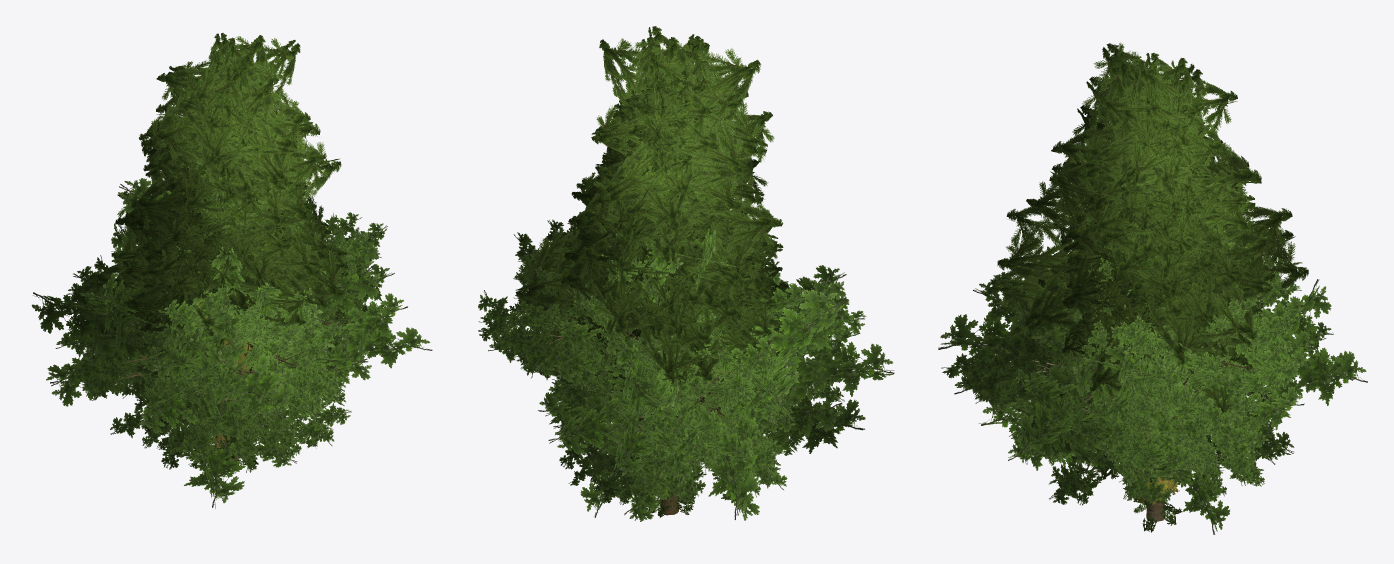
File: trees.glb
3 renders of one model, left to right at view 1: azimuth 30°, elevation 25°; view 2: azimuth 150°, elevation 25°; view 3: azimuth 270°, elevation 25°, orthographic. The views are drawn at different scales.
Parts seen in each view (by area): view 1: whitepine_a_lod2_leaves, oak_lod2_leaves, oak_lod1_leaves, oak_lod0_leaves, whitepine_b_lod2_leaves, whitepine_a_lod1_leaves, maple_lod1_leaves, maple_lod2_leaves, whitepine_a_lod0_leaves, maple_lod0_leaves, whitepine_b_lod1_leaves, whitepine_b_lod0_leaves; view 2: whitepine_a_lod2_leaves, oak_lod2_leaves, oak_lod1_leaves, whitepine_b_lod2_leaves, whitepine_a_lod1_leaves, oak_lod0_leaves, maple_lod1_leaves, maple_lod2_leaves, maple_lod0_leaves, whitepine_a_lod0_leaves, whitepine_b_lod1_leaves; view 3: whitepine_a_lod2_leaves, oak_lod2_leaves, oak_lod0_leaves, whitepine_a_lod1_leaves, oak_lod1_leaves, whitepine_b_lod2_leaves, maple_lod1_leaves, maple_lod2_leaves, whitepine_a_lod0_leaves, maple_lod0_leaves, whitepine_b_lod1_leaves.
Boxes of the visible parts, x1,y1,x2,y2 form: whitepine_a_lod2_leaves: (117, 33, 375, 327); oak_lod2_leaves: (31, 162, 432, 508); oak_lod1_leaves: (55, 183, 387, 472); oak_lod0_leaves: (78, 201, 389, 468); whitepine_b_lod2_leaves: (89, 94, 317, 345); whitepine_a_lod1_leaves: (113, 52, 348, 306); maple_lod1_leaves: (110, 264, 351, 455); maple_lod2_leaves: (115, 268, 335, 469); whitepine_a_lod0_leaves: (131, 69, 325, 280); maple_lod0_leaves: (132, 283, 323, 431); whitepine_b_lod1_leaves: (125, 147, 270, 329); whitepine_b_lod0_leaves: (147, 178, 283, 316); whitepine_a_lod2_leaves: (515, 26, 783, 337); oak_lod2_leaves: (525, 200, 894, 520); oak_lod1_leaves: (478, 226, 866, 520); whitepine_b_lod2_leaves: (539, 95, 790, 383); whitepine_a_lod1_leaves: (555, 58, 783, 353); oak_lod0_leaves: (506, 208, 844, 476); maple_lod1_leaves: (545, 289, 795, 521); maple_lod2_leaves: (538, 265, 807, 517); maple_lod0_leaves: (558, 321, 793, 505); whitepine_a_lod0_leaves: (564, 79, 749, 342); whitepine_b_lod1_leaves: (590, 162, 760, 393); whitepine_a_lod2_leaves: (991, 42, 1308, 398); oak_lod2_leaves: (938, 254, 1367, 477); oak_lod0_leaves: (967, 215, 1301, 504); whitepine_a_lod1_leaves: (1054, 74, 1268, 356); oak_lod1_leaves: (941, 228, 1333, 477); whitepine_b_lod2_leaves: (1038, 103, 1276, 420); maple_lod1_leaves: (996, 289, 1277, 505); maple_lod2_leaves: (1031, 303, 1304, 534); whitepine_a_lod0_leaves: (1049, 100, 1261, 333); maple_lod0_leaves: (1037, 295, 1285, 501); whitepine_b_lod1_leaves: (1112, 177, 1256, 375).
Bounding box in the file's own units: 23.83 × 30.64 × 25.09.
Materials: 11 (11 with a texture image).
